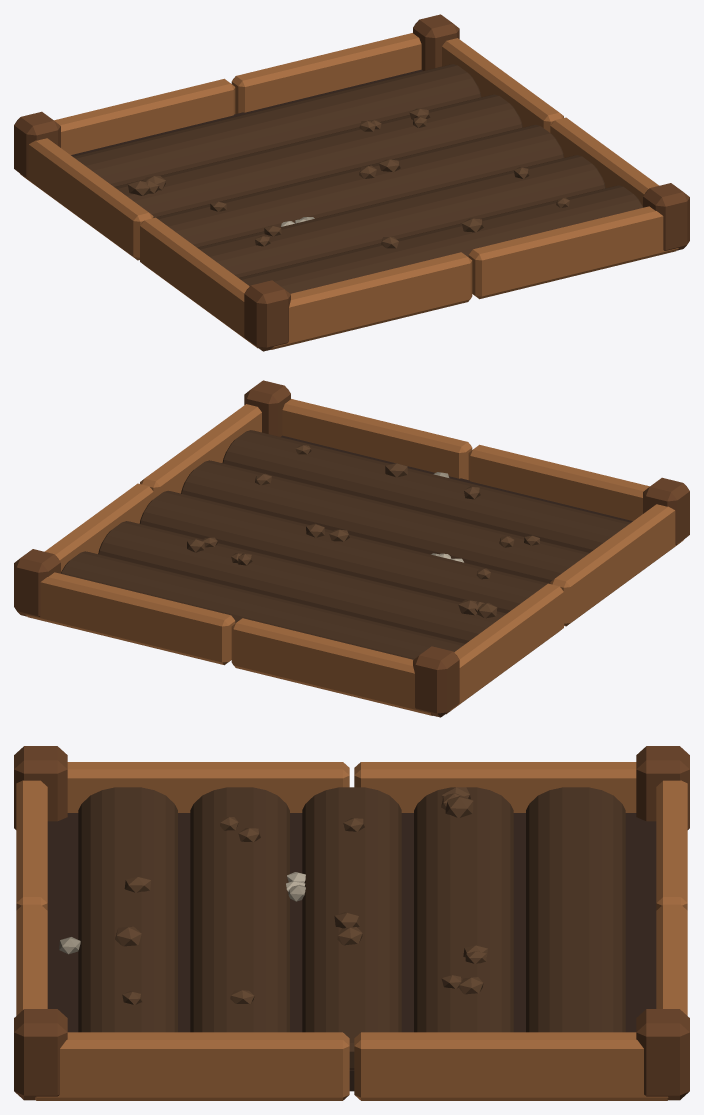
The model's file is soil_watered.fbx.
The picture shows the model from 3 angles, top to bottom: view 1: azimuth 30°, elevation 25°; view 2: azimuth 150°, elevation 25°; view 3: azimuth 270°, elevation 25°; orthographic projection. The views are drawn at different scales.
Visible parts, largest first — view 1: SM_SoilPlot_Watered; view 2: SM_SoilPlot_Watered; view 3: SM_SoilPlot_Watered.
Boxes of the visible parts, bbox=[...] form: SM_SoilPlot_Watered: bbox=[14, 14, 689, 351]; SM_SoilPlot_Watered: bbox=[14, 380, 689, 717]; SM_SoilPlot_Watered: bbox=[14, 746, 689, 1100].
Bounding box in the file's own units: 3.02 × 0.38 × 3.02.
